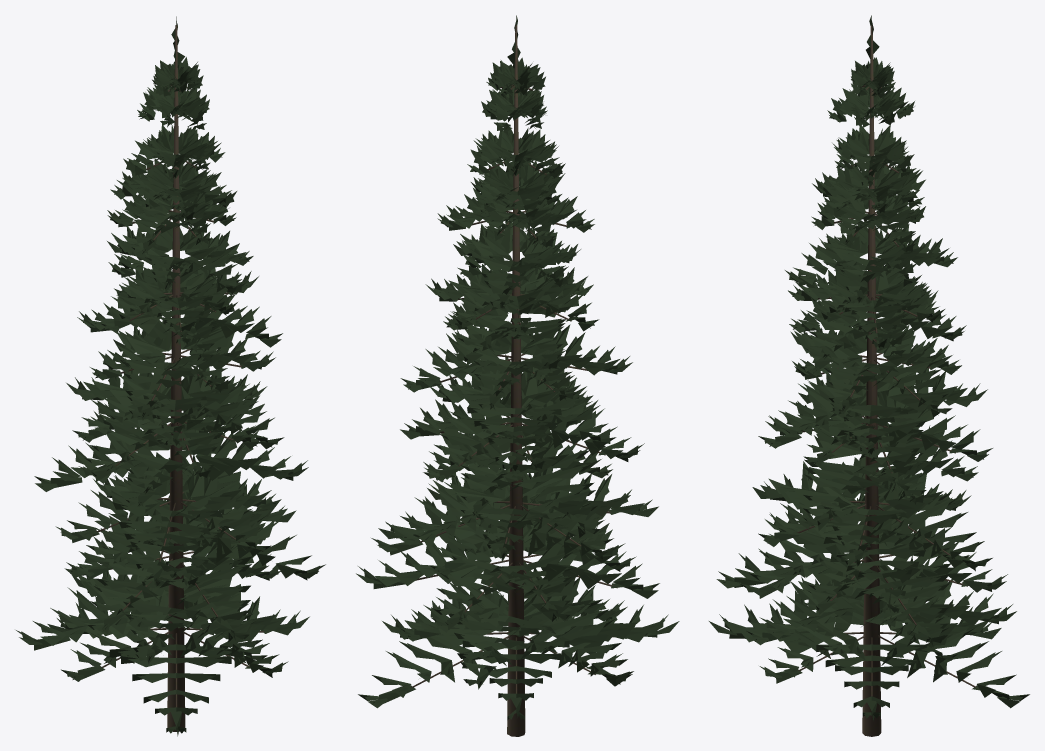
File: forest-fir_high.glb
3 renders of one model, left to right at view 1: azimuth 30°, elevation 25°; view 2: azimuth 150°, elevation 25°; view 3: azimuth 270°, elevation 25°, orthographic.
Parts seen in each view (by area): view 1: forest-fir-needles, forest-bark; view 2: forest-fir-needles, forest-bark; view 3: forest-fir-needles, forest-bark.
Part boxes in pixels (x1,y1,x2,y2): forest-fir-needles: [16, 16, 325, 736]; forest-bark: [96, 25, 264, 731]; forest-fir-needles: [356, 15, 679, 720]; forest-bark: [410, 25, 617, 736]; forest-fir-needles: [709, 15, 1029, 720]; forest-bark: [773, 25, 977, 736].
Bounding box in the file's own units: 5.89 × 15.04 × 6.11.
2 materials, 1 textured.
